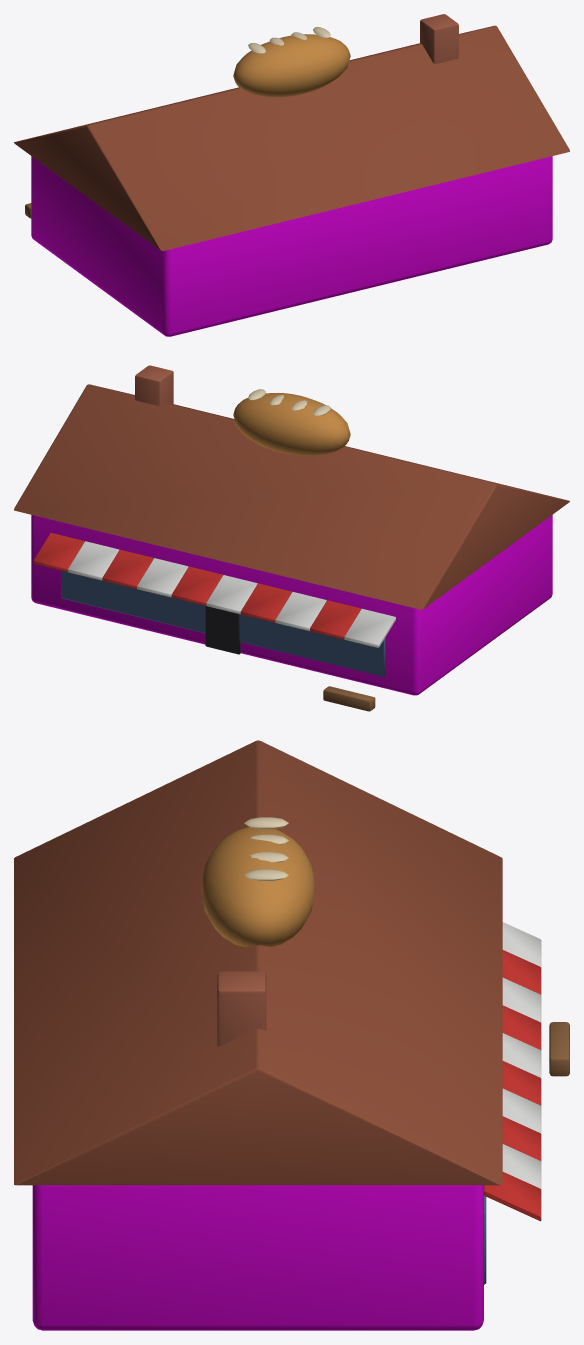
Rendered from Poi_Bakery.fbx.
3 renders of one model, top to bottom at view 1: azimuth 30°, elevation 25°; view 2: azimuth 150°, elevation 25°; view 3: azimuth 270°, elevation 25°, orthographic. The views are drawn at different scales.
Parts seen in each view (by area): view 1: Poi_Bakery; view 2: Poi_Bakery; view 3: Poi_Bakery.
Boxes of the visible parts, x1,y1,x2,y2 form: Poi_Bakery: (14,14,569,336); Poi_Bakery: (14,365,569,711); Poi_Bakery: (14,740,569,1330).
Size of the model in its own units: 19 by 8.95 by 13.56.
